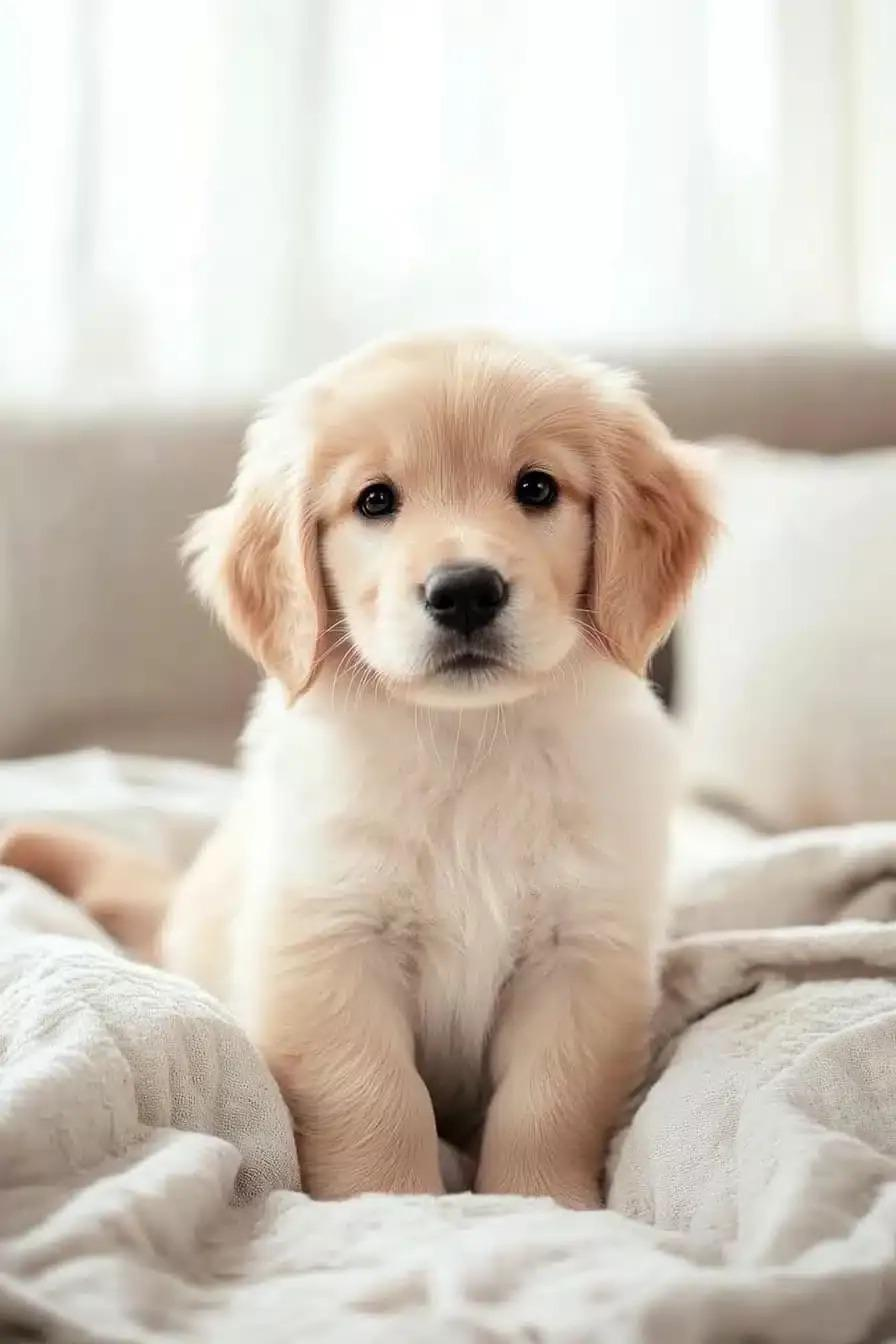puppy-dog: (0, 329, 726, 1208)
